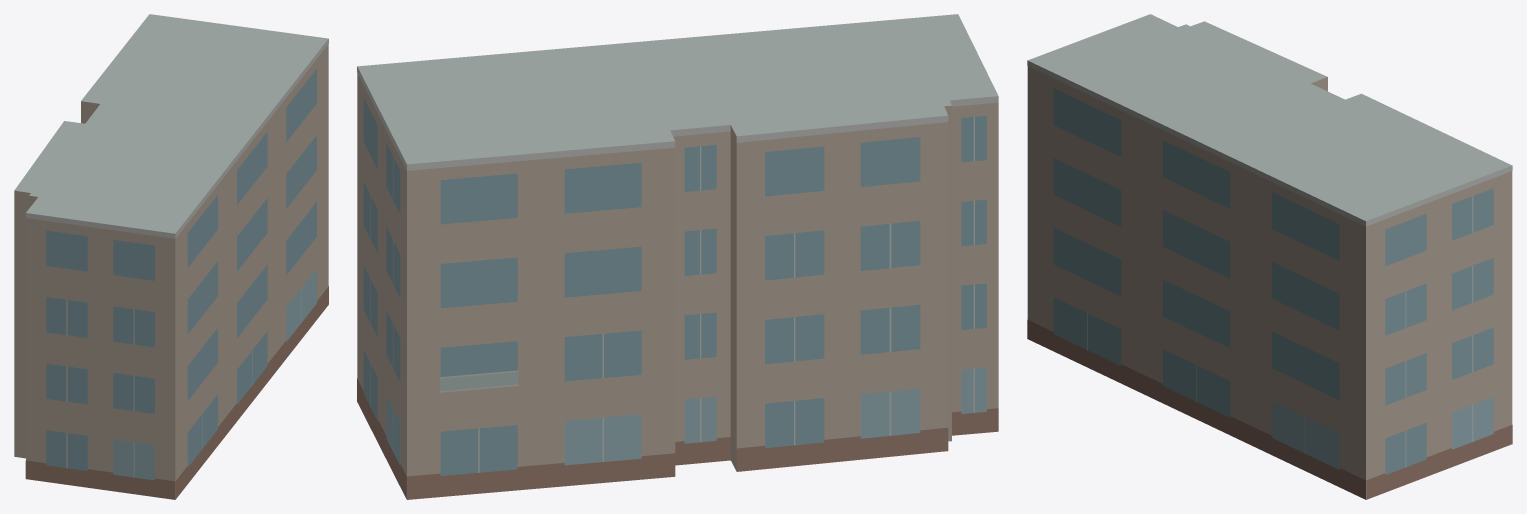
Rendered from survey-upis-32747518.glb.
3 renders of one model, left to right at view 1: azimuth 30°, elevation 25°; view 2: azimuth 150°, elevation 25°; view 3: azimuth 270°, elevation 25°, orthographic. The views are drawn at different scales.
Visible parts, largest first — view 1: survey-upis-32747518.tmp; view 2: survey-upis-32747518.tmp; view 3: survey-upis-32747518.tmp.
Boxes of the visible parts, x1,y1,x2,y2 form: survey-upis-32747518.tmp: (14,14,328,499); survey-upis-32747518.tmp: (357,14,998,499); survey-upis-32747518.tmp: (1027,14,1512,499).
Size of the model in its own units: 20.28 by 12.7 by 20.04.
